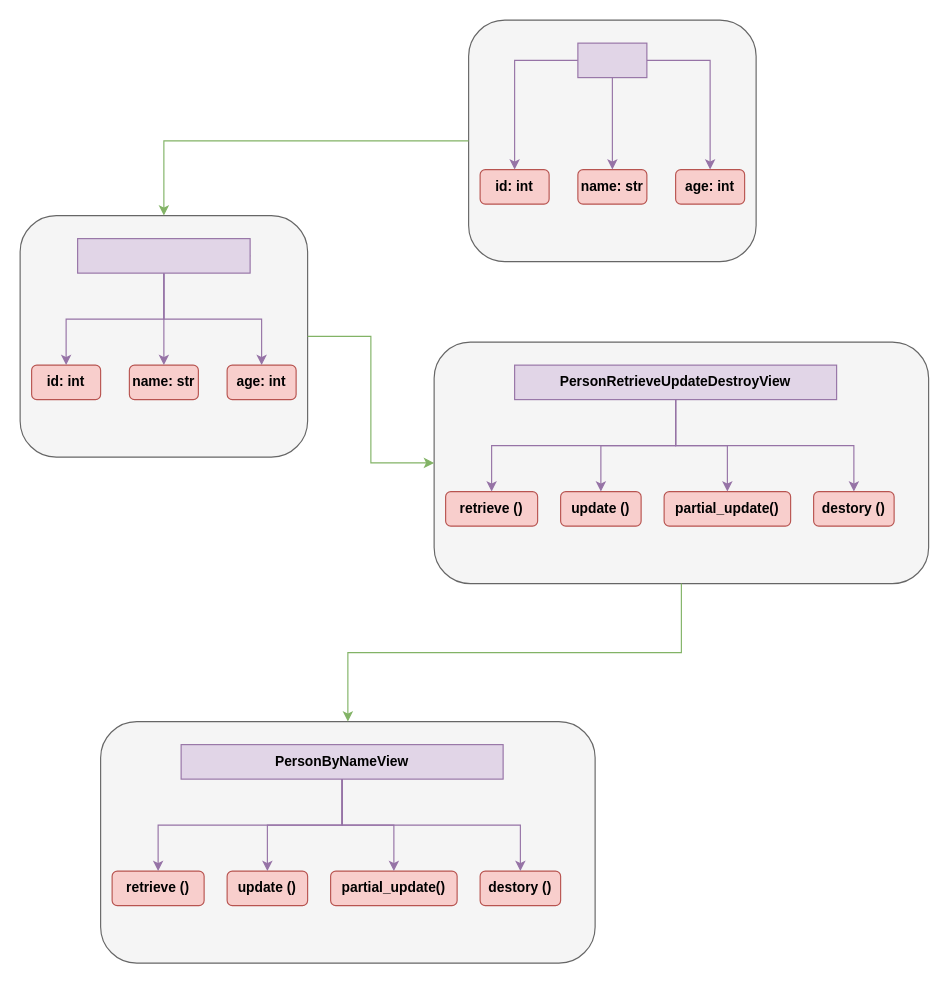
This 949x983 diagram has some shape labels left out. The centre of each missing label's shape, as x and y in pixels:
"Person" goes at [612,60].
"PersonSerializer" goes at [163,255].
